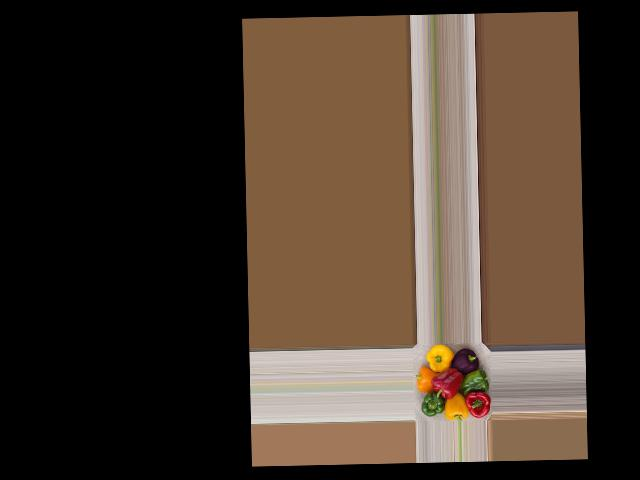bell_pepper: (450, 349, 486, 379)
